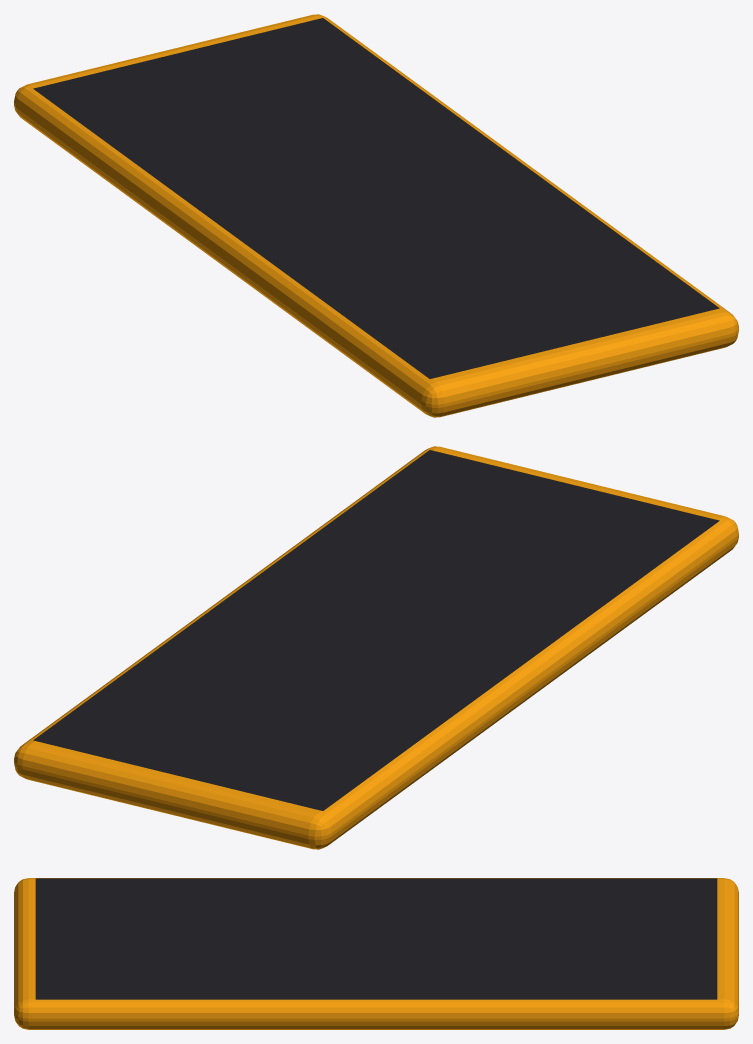
Rendered from Phone_565.glb.
The picture shows the model from 3 angles, top to bottom: view 1: azimuth 30°, elevation 25°; view 2: azimuth 150°, elevation 25°; view 3: azimuth 270°, elevation 25°; orthographic projection. The views are drawn at different scales.
Visible parts, largest first — view 1: Phone_Screen, Phone_Body; view 2: Phone_Screen, Phone_Body; view 3: Phone_Screen, Phone_Body.
Boxes of the visible parts, x1=… form: Phone_Screen: x1=33, y1=18, x2=719, y2=378; Phone_Body: x1=14, y1=14, x2=738, y2=417; Phone_Screen: x1=33, y1=450, x2=719, y2=810; Phone_Body: x1=14, y1=446, x2=738, y2=849; Phone_Screen: x1=35, y1=878, x2=717, y2=999; Phone_Body: x1=14, y1=878, x2=738, y2=1029.
Bounding box in the file's own units: 0.0728 × 0.0076 × 0.1688.
